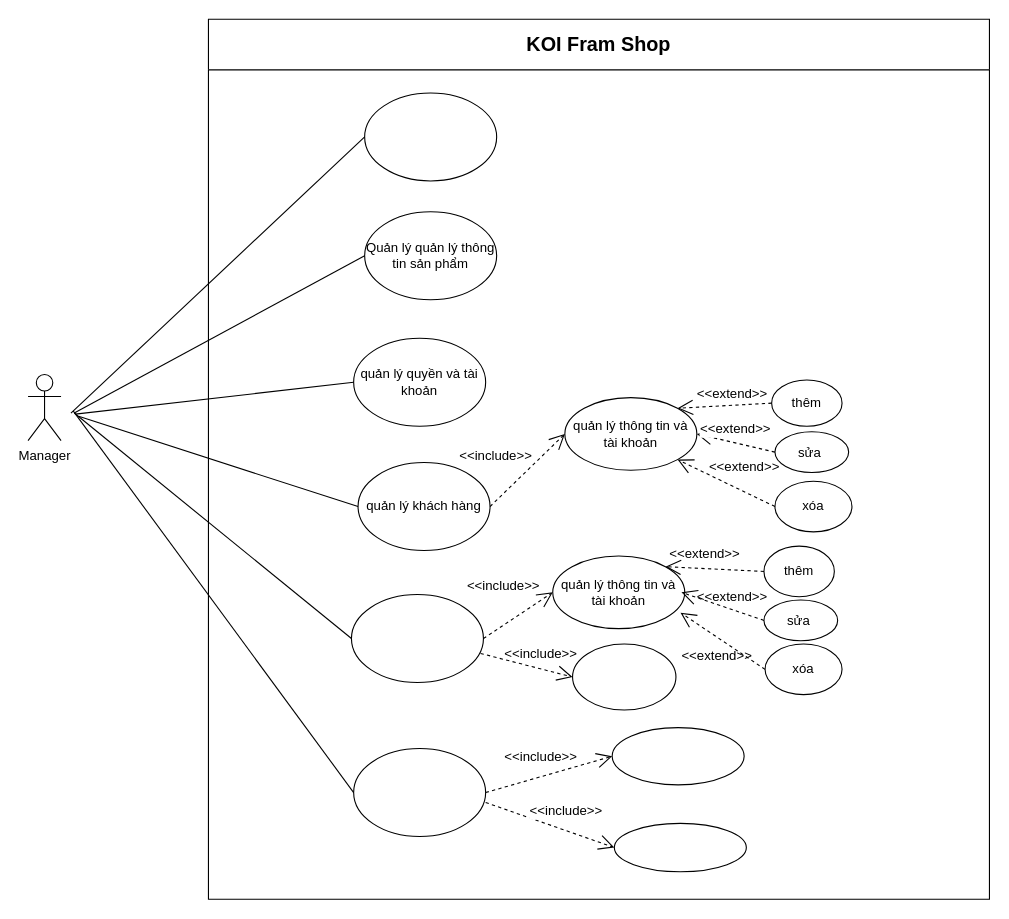
Some shapes in this 1009 by 919 pixel diagram are drawn without their labels. Here are the shapes that lost their labels. From the top down, the centre of each, then its label:
At point (430, 136): "quản lý hệ thống".
At point (416, 638): "quản lý nhân viên".
At point (623, 676): "báo cáo".
At point (677, 756): "đánh giá và phản hồi".
At point (419, 792): "quản lý phản hồi và theo dõi".
At point (679, 847): "xử lý yêu cầu".
